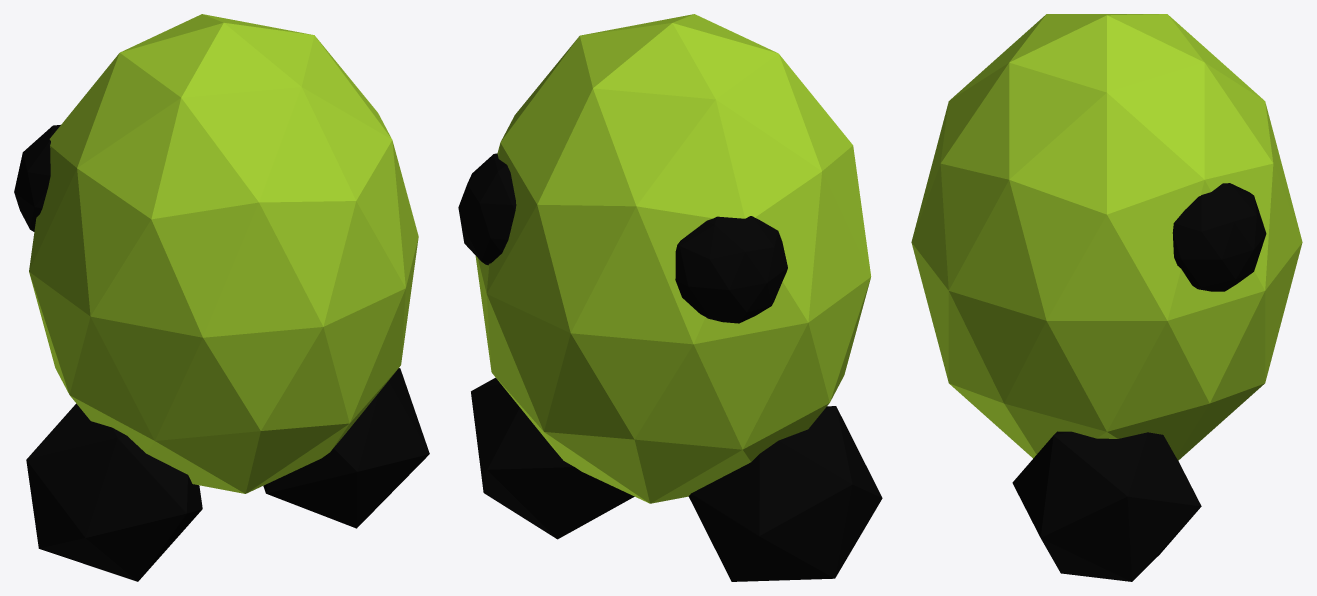
The model's file is explode.f0001.glb.
The picture shows the model from 3 angles, left to right: view 1: azimuth 30°, elevation 25°; view 2: azimuth 150°, elevation 25°; view 3: azimuth 270°, elevation 25°; orthographic projection. The views are drawn at different scales.
Visible parts, largest first — view 1: Body.001; view 2: Body.001; view 3: Body.001.
Boxes of the visible parts, box(x1,y1,x2,y2) form: Body.001: box(14, 14, 429, 581); Body.001: box(458, 14, 882, 581); Body.001: box(911, 14, 1302, 581).
Size of the model in its own units: 2.17 by 2.85 by 2.
1 material, 1 textured.
